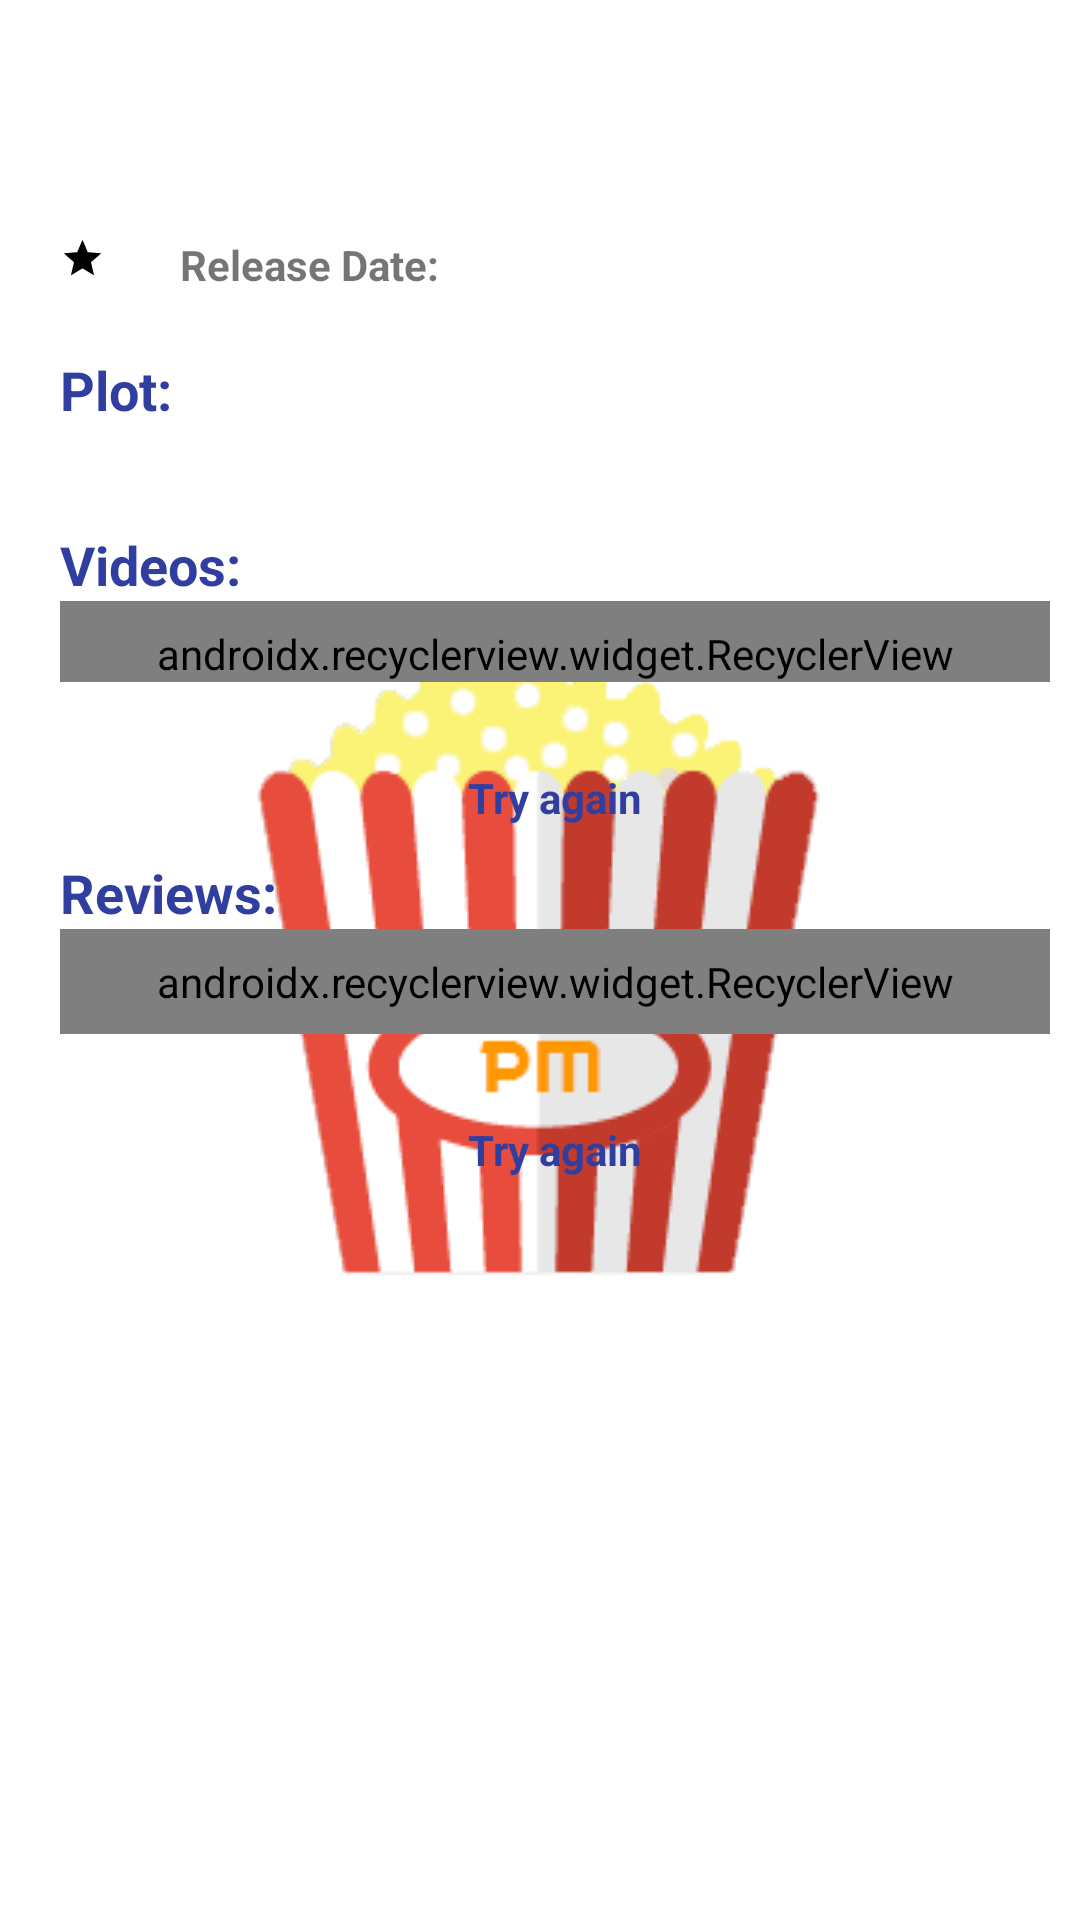

Screen size 1080 x 1920. Icon name, then its box in pixels as bbox=(x1, y1, x2, y2):
Vote Average: bbox=(64, 240, 101, 275)
